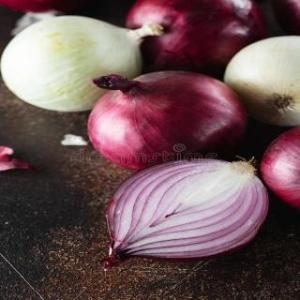onion: (70, 61, 246, 174), (102, 155, 272, 263), (7, 20, 141, 116), (124, 0, 262, 72), (218, 33, 300, 125), (261, 128, 299, 210)
